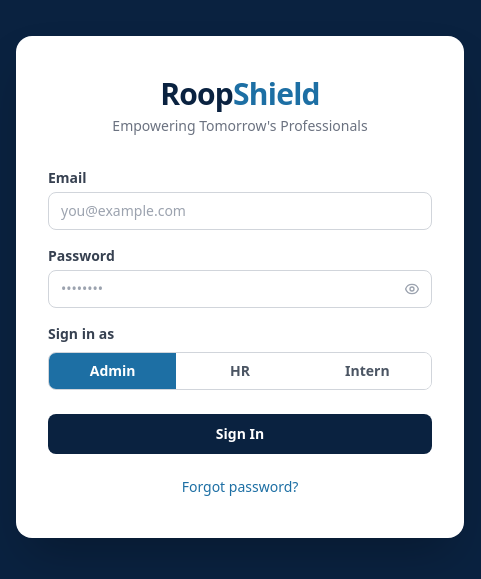
Test case: LoginPage — Requirement 2.2: Client-side validation › shows an error when email is empty on submit
Step 1. Click the button "Sign In" → (240, 434), box 48,414 -> 432,454
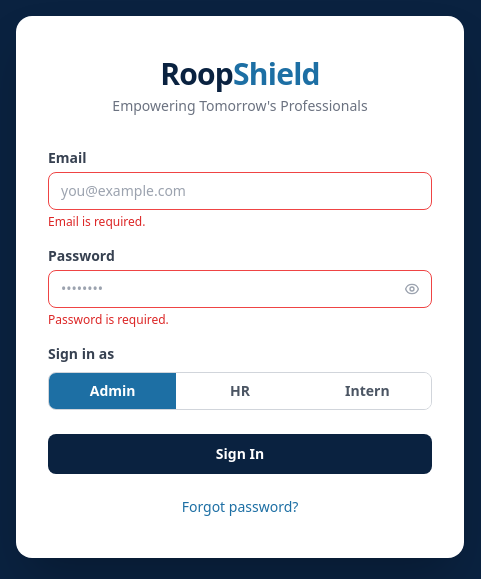
Result: the text "Email is required." is shown at 48,213 -> 145,230
